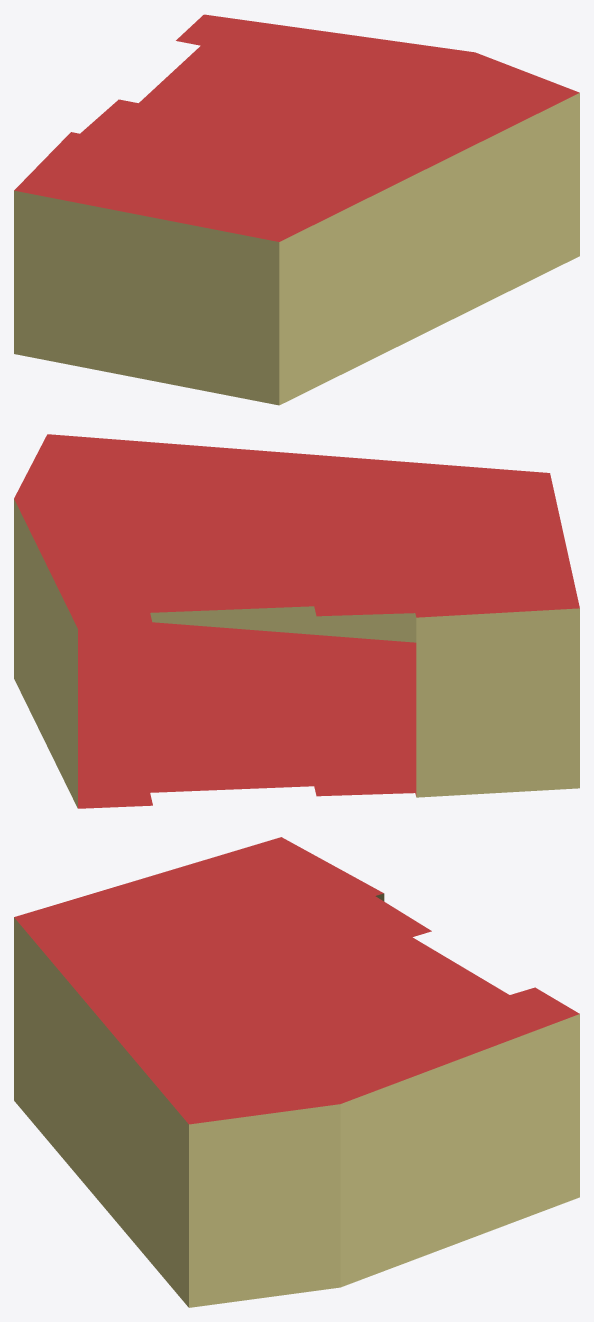
The picture shows the model from 3 angles, top to bottom: view 1: azimuth 30°, elevation 25°; view 2: azimuth 150°, elevation 25°; view 3: azimuth 270°, elevation 25°; orthographic projection. The views are drawn at different scales.
Bounding box in the file's own units: 19.21 × 15.98 × 5.71.
